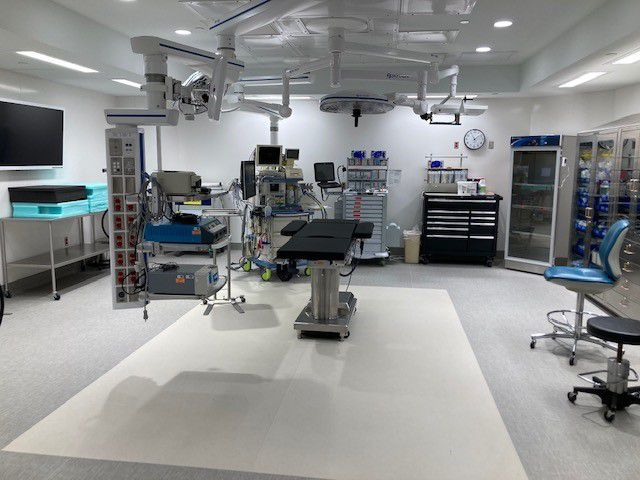TV: (1, 97, 64, 171)
bedside_monitor: (243, 164, 258, 198), (257, 145, 282, 165), (289, 149, 300, 162)
cabinet: (564, 128, 639, 322), (508, 132, 558, 274)
chair: (530, 221, 628, 365), (565, 314, 640, 422)
computer: (314, 162, 335, 181)
electrosurgical_unit: (145, 215, 230, 247)
handle: (627, 179, 634, 194), (620, 265, 632, 273), (621, 249, 633, 257), (619, 284, 631, 292), (617, 300, 629, 308)
keyboard: (318, 182, 344, 188)
medical_drawer: (422, 191, 502, 264), (342, 194, 389, 265)
operating_bed: (277, 218, 374, 340)
surgical_light: (175, 65, 247, 129), (320, 95, 394, 128)
utility_cart: (1, 210, 108, 300)
waste_bin: (402, 228, 422, 265)
